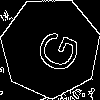G: (25, 23, 83, 77)
